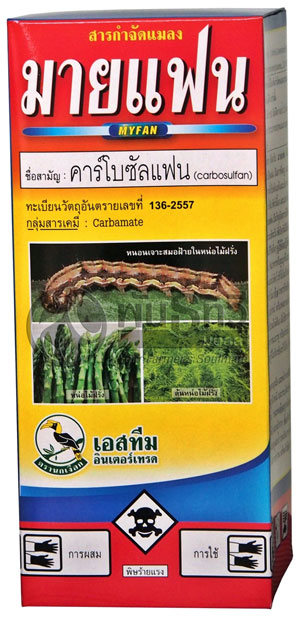Insecticide: (2, 7, 300, 616)
